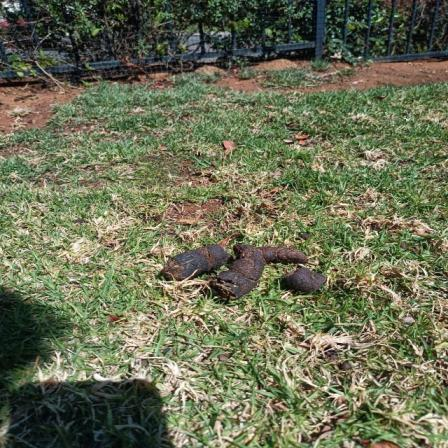dog-poop: (167, 236, 333, 306)
